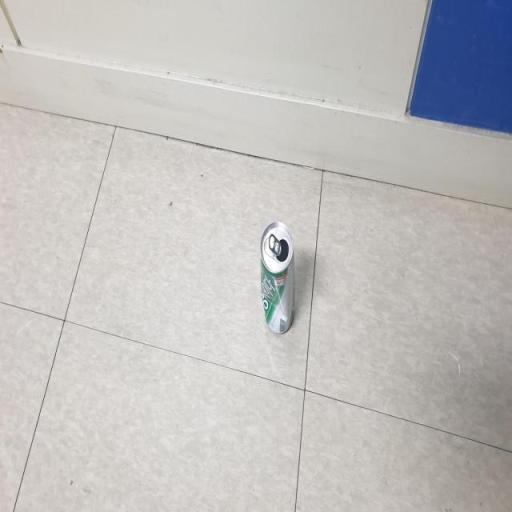metal: (242, 212, 315, 352)
